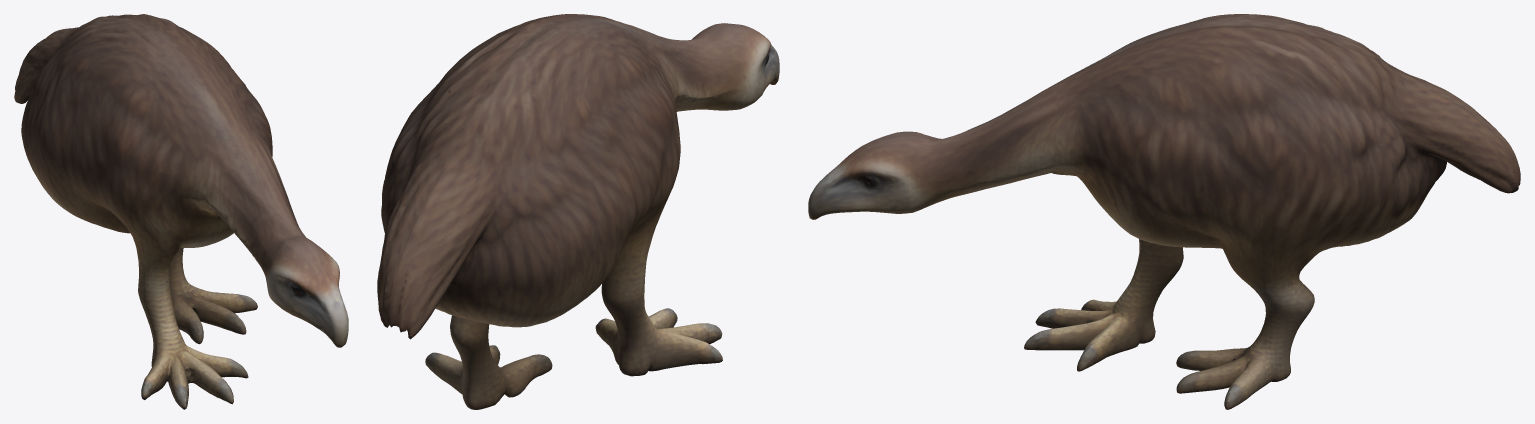
3 views of the same model, side by side, from view 1: azimuth 30°, elevation 25°; view 2: azimuth 150°, elevation 25°; view 3: azimuth 270°, elevation 25° (orthographic). The views are drawn at different scales.
Visible parts, largest first — view 1: world; view 2: world; view 3: world.
Part boxes in pixels (x1=…): world: x1=14, y1=14, x2=348, y2=409; world: x1=377, y1=14, x2=779, y2=409; world: x1=808, y1=14, x2=1520, y2=409.
Size of the model in its own units: 1.95 by 3 by 5.71.
1 material, 1 textured.
